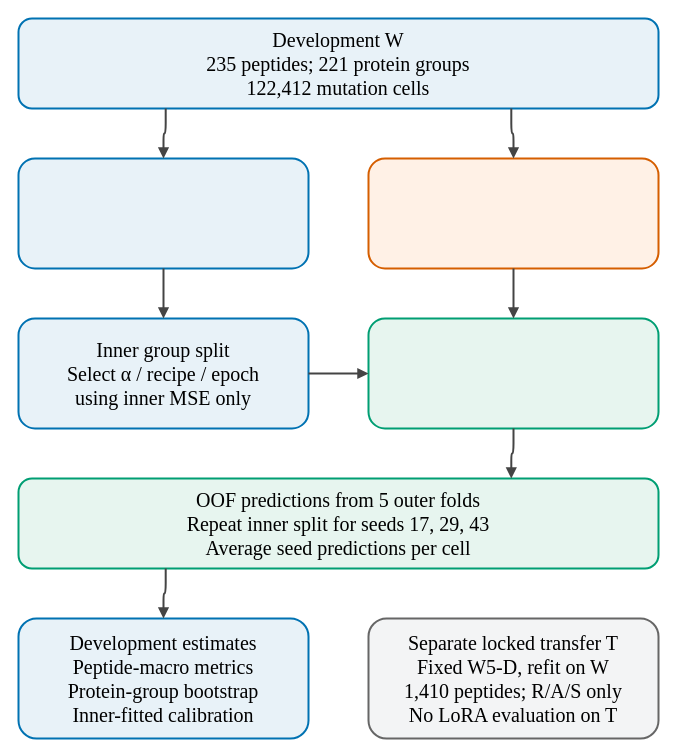
This 676x756 diagram has some shape labels left out. Each missing label, with the centre of its shape:
Fresh refit on permitted outer training data Predict outer test: point (513, 373)
Outer test groups Full range for both arms Untouched during selection: point (513, 213)
Outer training groups Fit B: WT PSI ≤4; D: full Validation: full range: point (163, 213)
